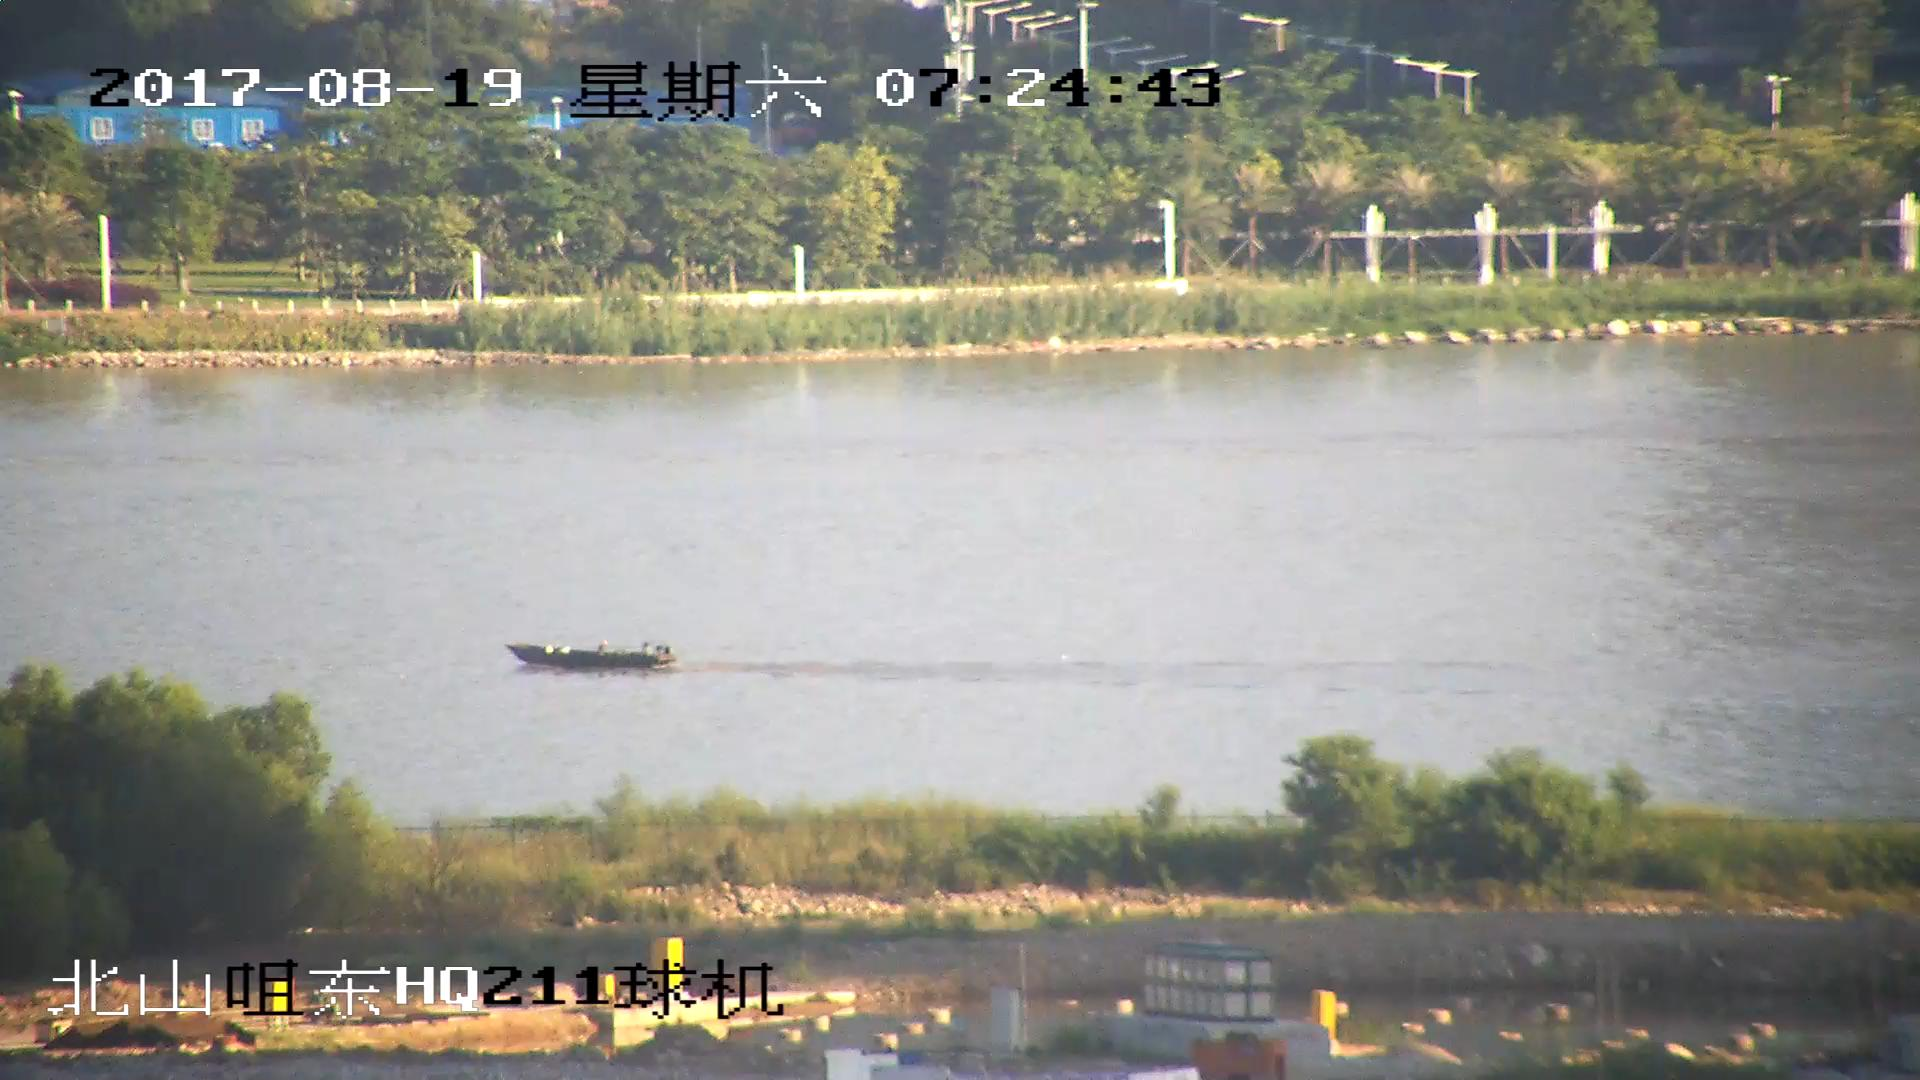fishing boat: (505, 636, 675, 674)
